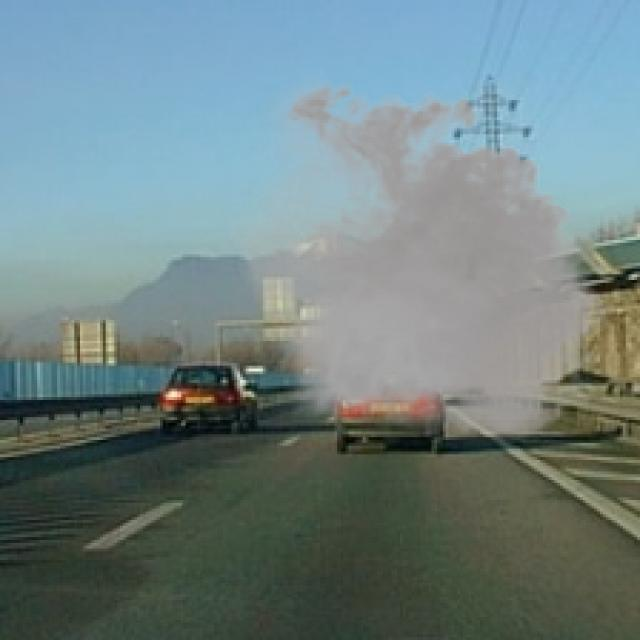Smoke: (223, 71, 623, 452)
